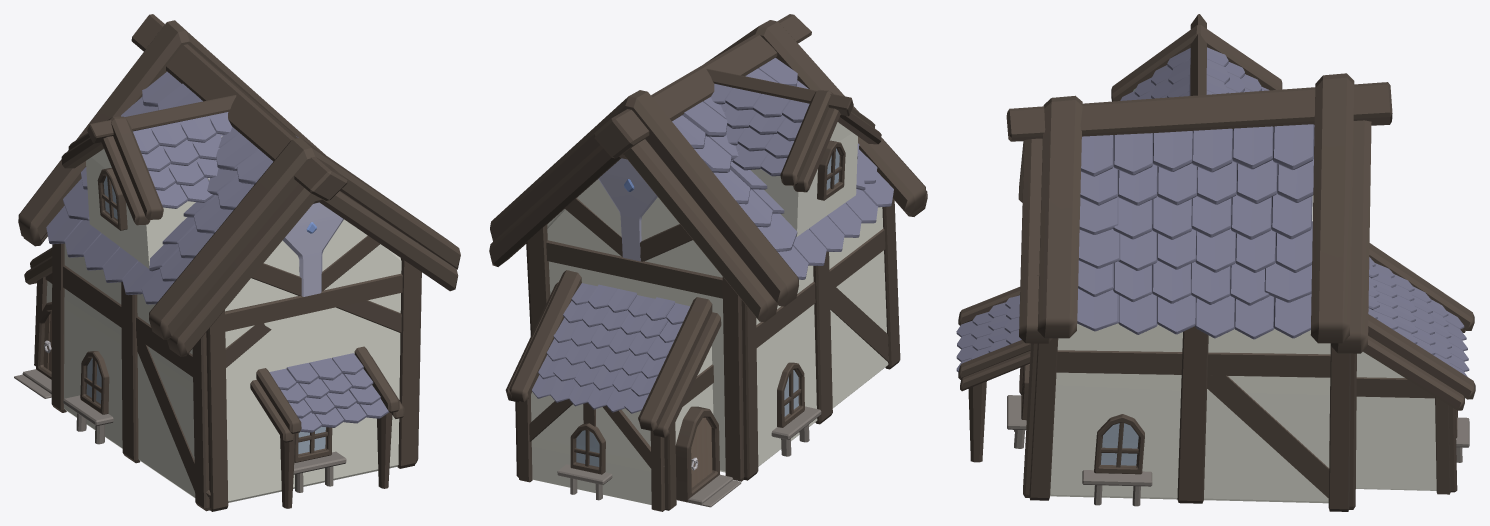
The model's file is purple house.fbx.
3 views of the same model, side by side, from view 1: azimuth 30°, elevation 25°; view 2: azimuth 150°, elevation 25°; view 3: azimuth 270°, elevation 25° (orthographic). The views are drawn at different scales.
Visible parts, largest first — view 1: polySurface5438; view 2: polySurface5438; view 3: polySurface5438.
Boxes of the visible parts, x1=… form: polySurface5438: x1=14, y1=14, x2=460, y2=511; polySurface5438: x1=489, y1=14, x2=927, y2=511; polySurface5438: x1=956, y1=14, x2=1475, y2=511.
Size of the model in its own units: 8.06 by 9.36 by 11.35.
